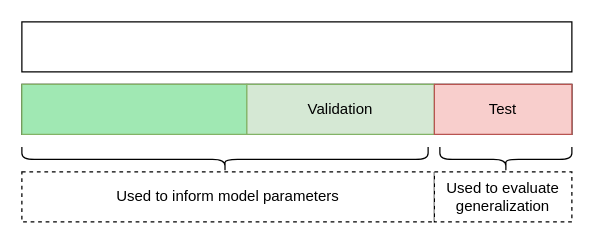
Image size: 594x244. Some labels were removed from this diagram. Here are the shapes that lost their labels. From the top down, the centre of each, then its label:
At [296,46]: "Full Dataset".
At [134,108]: "Training".
